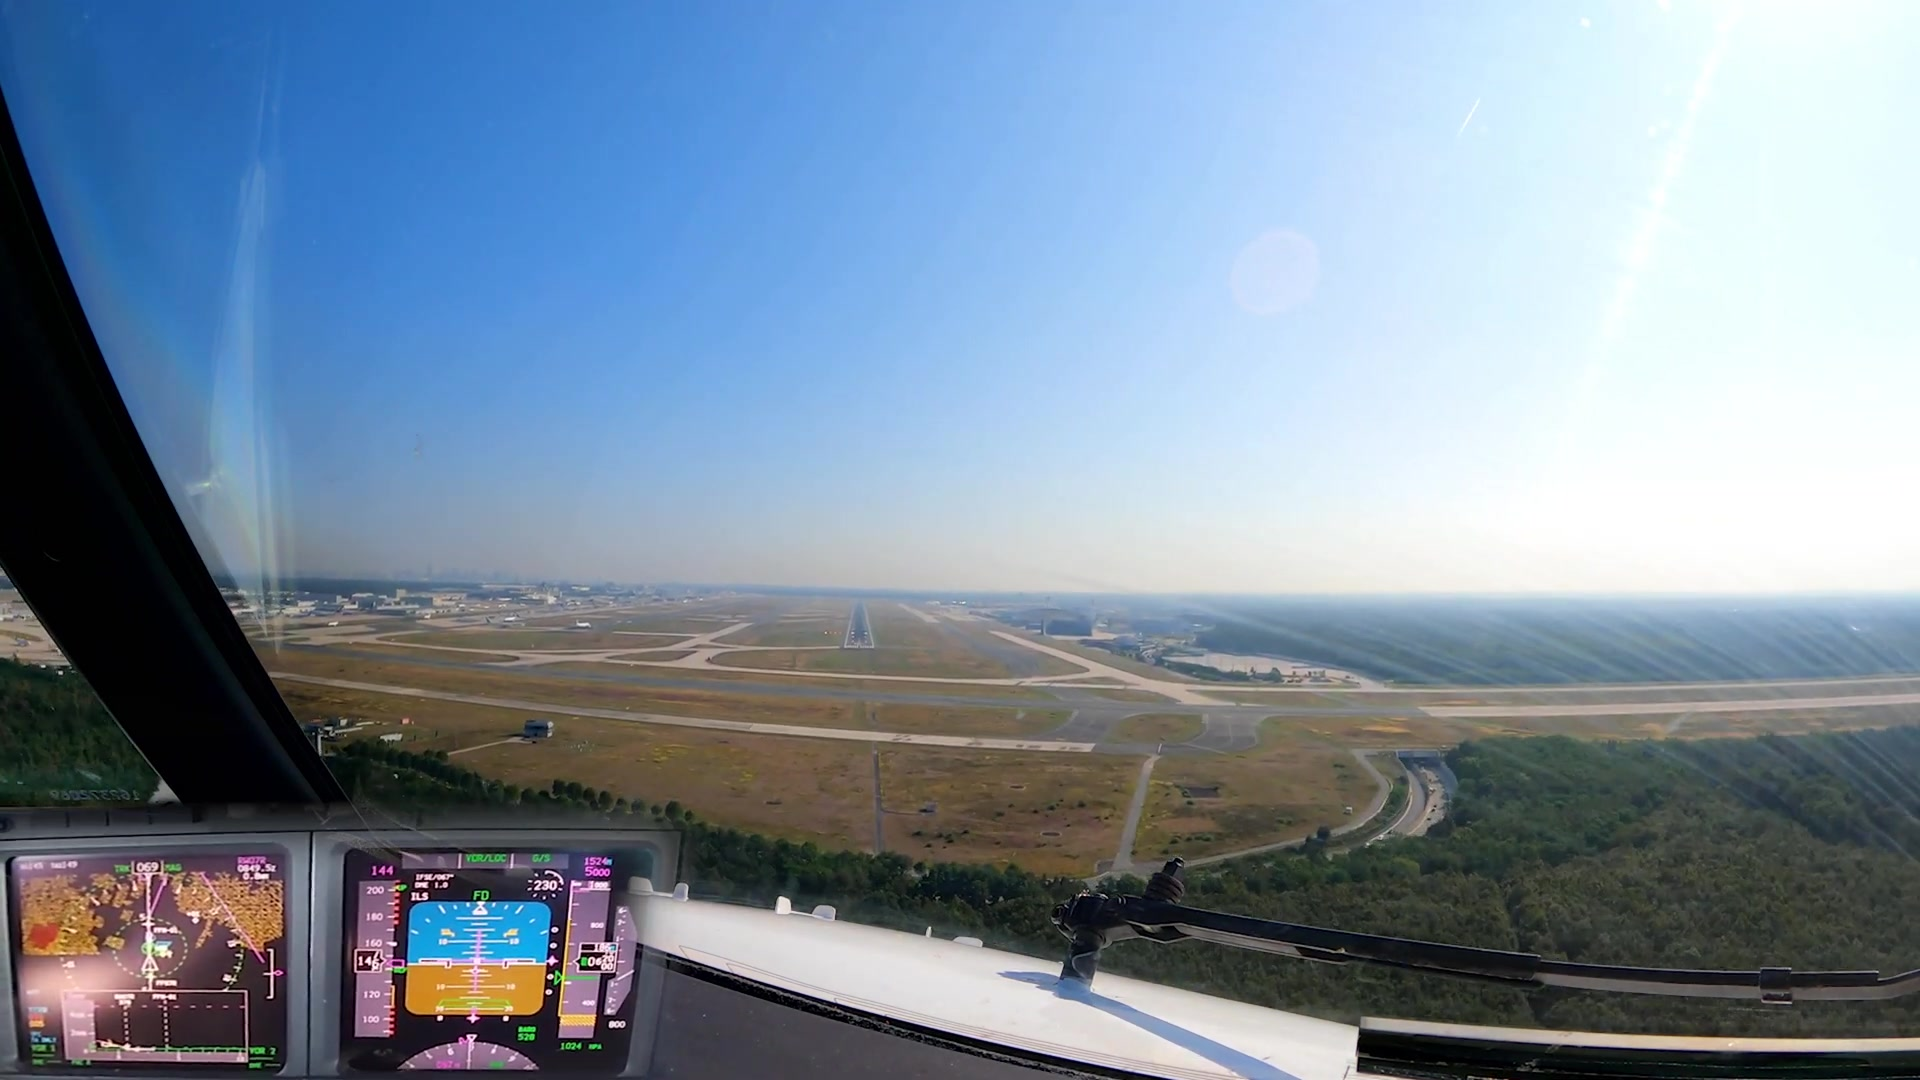runway: (843, 603, 877, 651)
